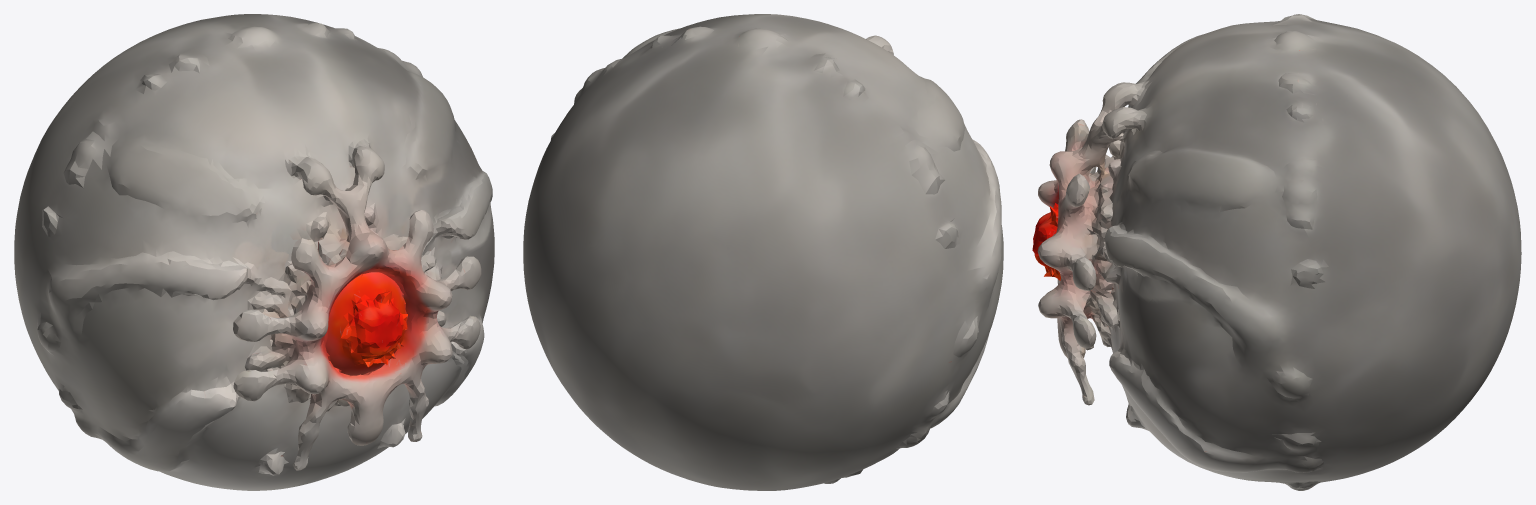
Rendered from white_blood_cell.glb.
3 renders of one model, left to right at view 1: azimuth 30°, elevation 25°; view 2: azimuth 150°, elevation 25°; view 3: azimuth 270°, elevation 25°, orthographic. The views are drawn at different scales.
Visible parts, largest first — view 1: WhiteBloodCell; view 2: WhiteBloodCell; view 3: WhiteBloodCell.
Boxes of the visible parts, x1,y1,x2,y2 form: WhiteBloodCell: [14, 14, 494, 490]; WhiteBloodCell: [523, 14, 1003, 490]; WhiteBloodCell: [1032, 14, 1521, 490].
Bounding box in the file's own units: 1.88 × 1.85 × 1.89.
Materials: 1 (1 with a texture image).
